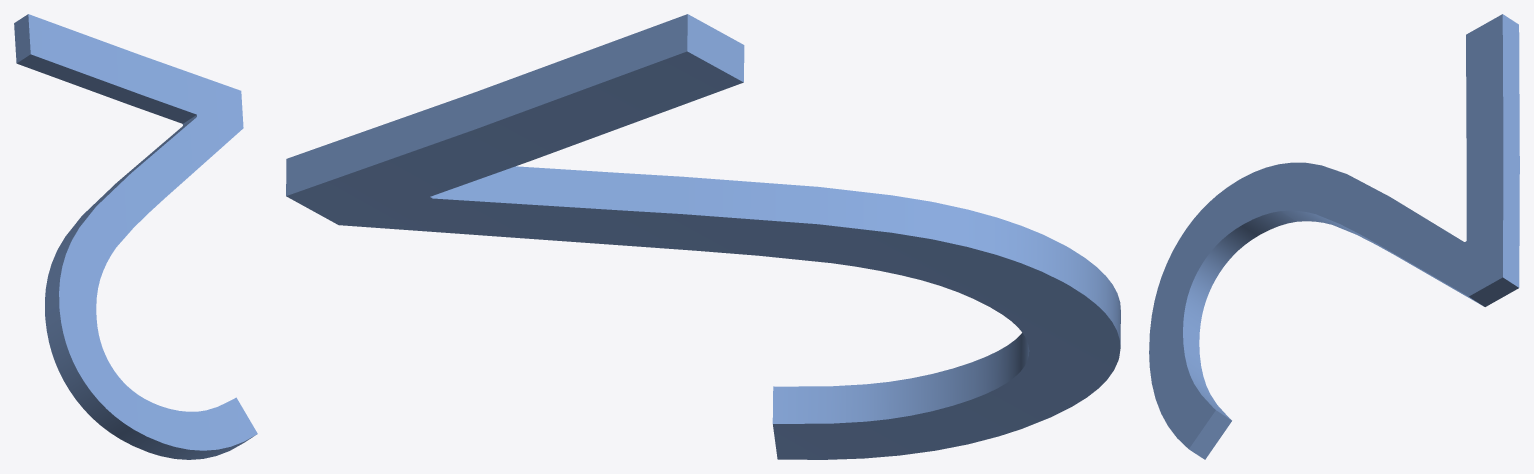
Rendered from New_Number_2.gltf.
3 renders of one model, left to right at view 1: azimuth 30°, elevation 25°; view 2: azimuth 150°, elevation 25°; view 3: azimuth 270°, elevation 25°, orthographic. The views are drawn at different scales.
Parts seen in each view (by area): view 1: Part 209; view 2: Part 209; view 3: Part 209.
Part boxes in pixels (bbox=[...]): Part 209: bbox=[14, 14, 257, 459]; Part 209: bbox=[286, 14, 1120, 459]; Part 209: bbox=[1149, 14, 1519, 459].
Bounding box in the file's own units: 0.0042 × 0.00454 × 0.00382.
